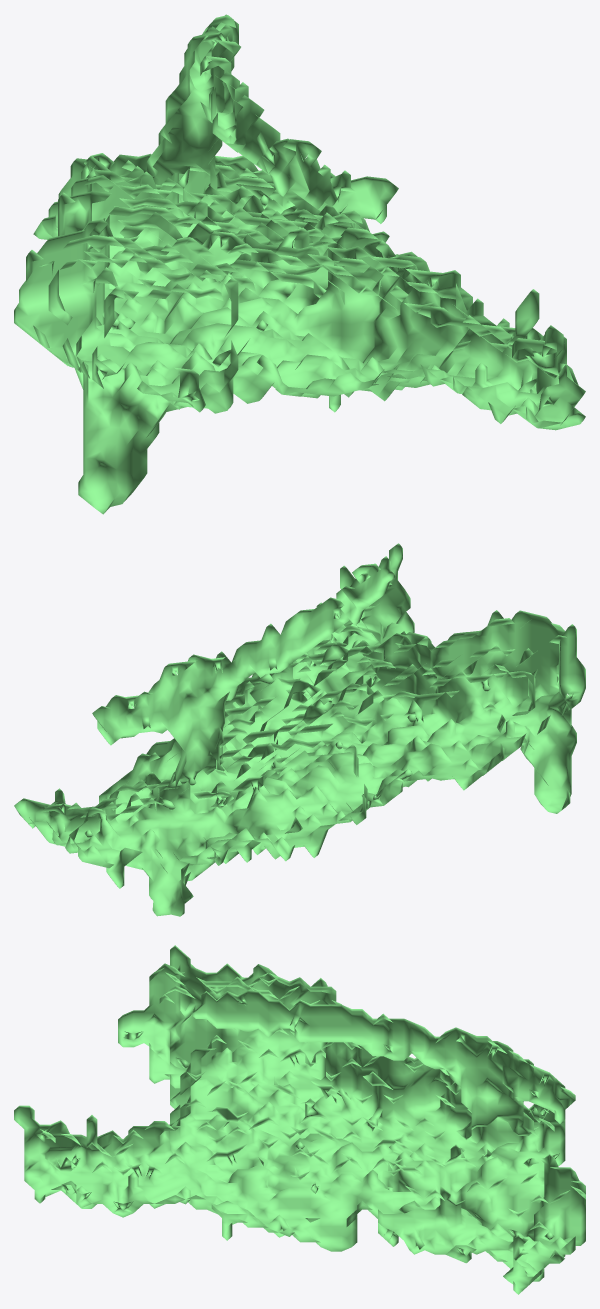
File: osteocyte_24.glb
3 renders of one model, top to bottom at view 1: azimuth 30°, elevation 25°; view 2: azimuth 150°, elevation 25°; view 3: azimuth 270°, elevation 25°, orthographic. The views are drawn at different scales.
Visible parts, largest first — view 1: osteocyte_24; view 2: osteocyte_24; view 3: osteocyte_24.
Part boxes in pixels (x1,y1,x2,y2): osteocyte_24: (14,14,585,514); osteocyte_24: (14,543,585,916); osteocyte_24: (14,945,585,1294).
Bounding box in the file's own units: 21.18 × 13 × 26.48.
